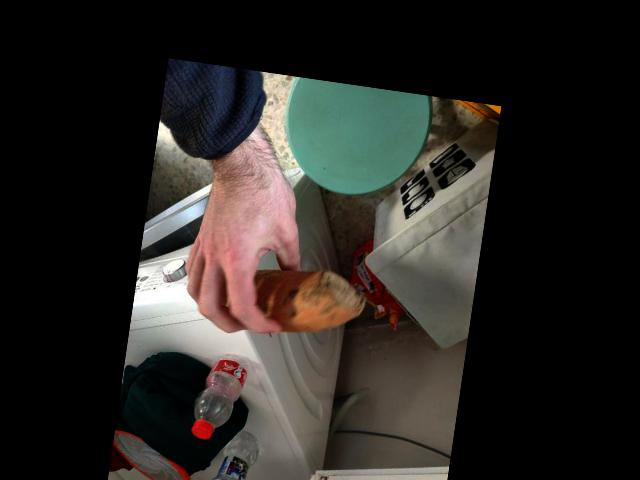sweet_potato: (229, 245, 336, 333)
